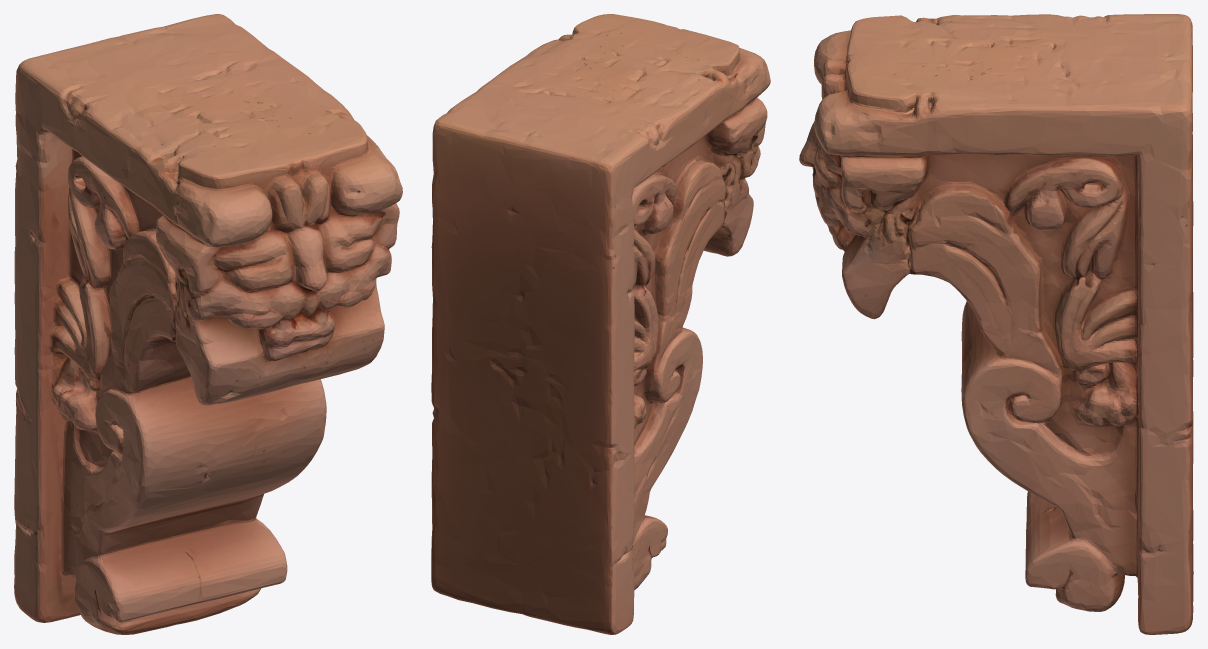
Rendered from kirtimukha-corbel-bracket-optimized.glb.
3 views of the same model, side by side, from view 1: azimuth 30°, elevation 25°; view 2: azimuth 150°, elevation 25°; view 3: azimuth 270°, elevation 25° (orthographic). The views are drawn at different scales.
Parts seen in each view (by area): view 1: 290cd6e5-0852-4d88-b693-9a033aedcbe3_texturing.obj; view 2: 290cd6e5-0852-4d88-b693-9a033aedcbe3_texturing.obj; view 3: 290cd6e5-0852-4d88-b693-9a033aedcbe3_texturing.obj.
Boxes of the visible parts, x1,y1,x2,y2 form: 290cd6e5-0852-4d88-b693-9a033aedcbe3_texturing.obj: (14,14,402,634); 290cd6e5-0852-4d88-b693-9a033aedcbe3_texturing.obj: (431,14,770,634); 290cd6e5-0852-4d88-b693-9a033aedcbe3_texturing.obj: (799,14,1193,634).
Size of the model in its own units: 0.4806 by 1.2 by 0.805.
1 material, 1 textured.
